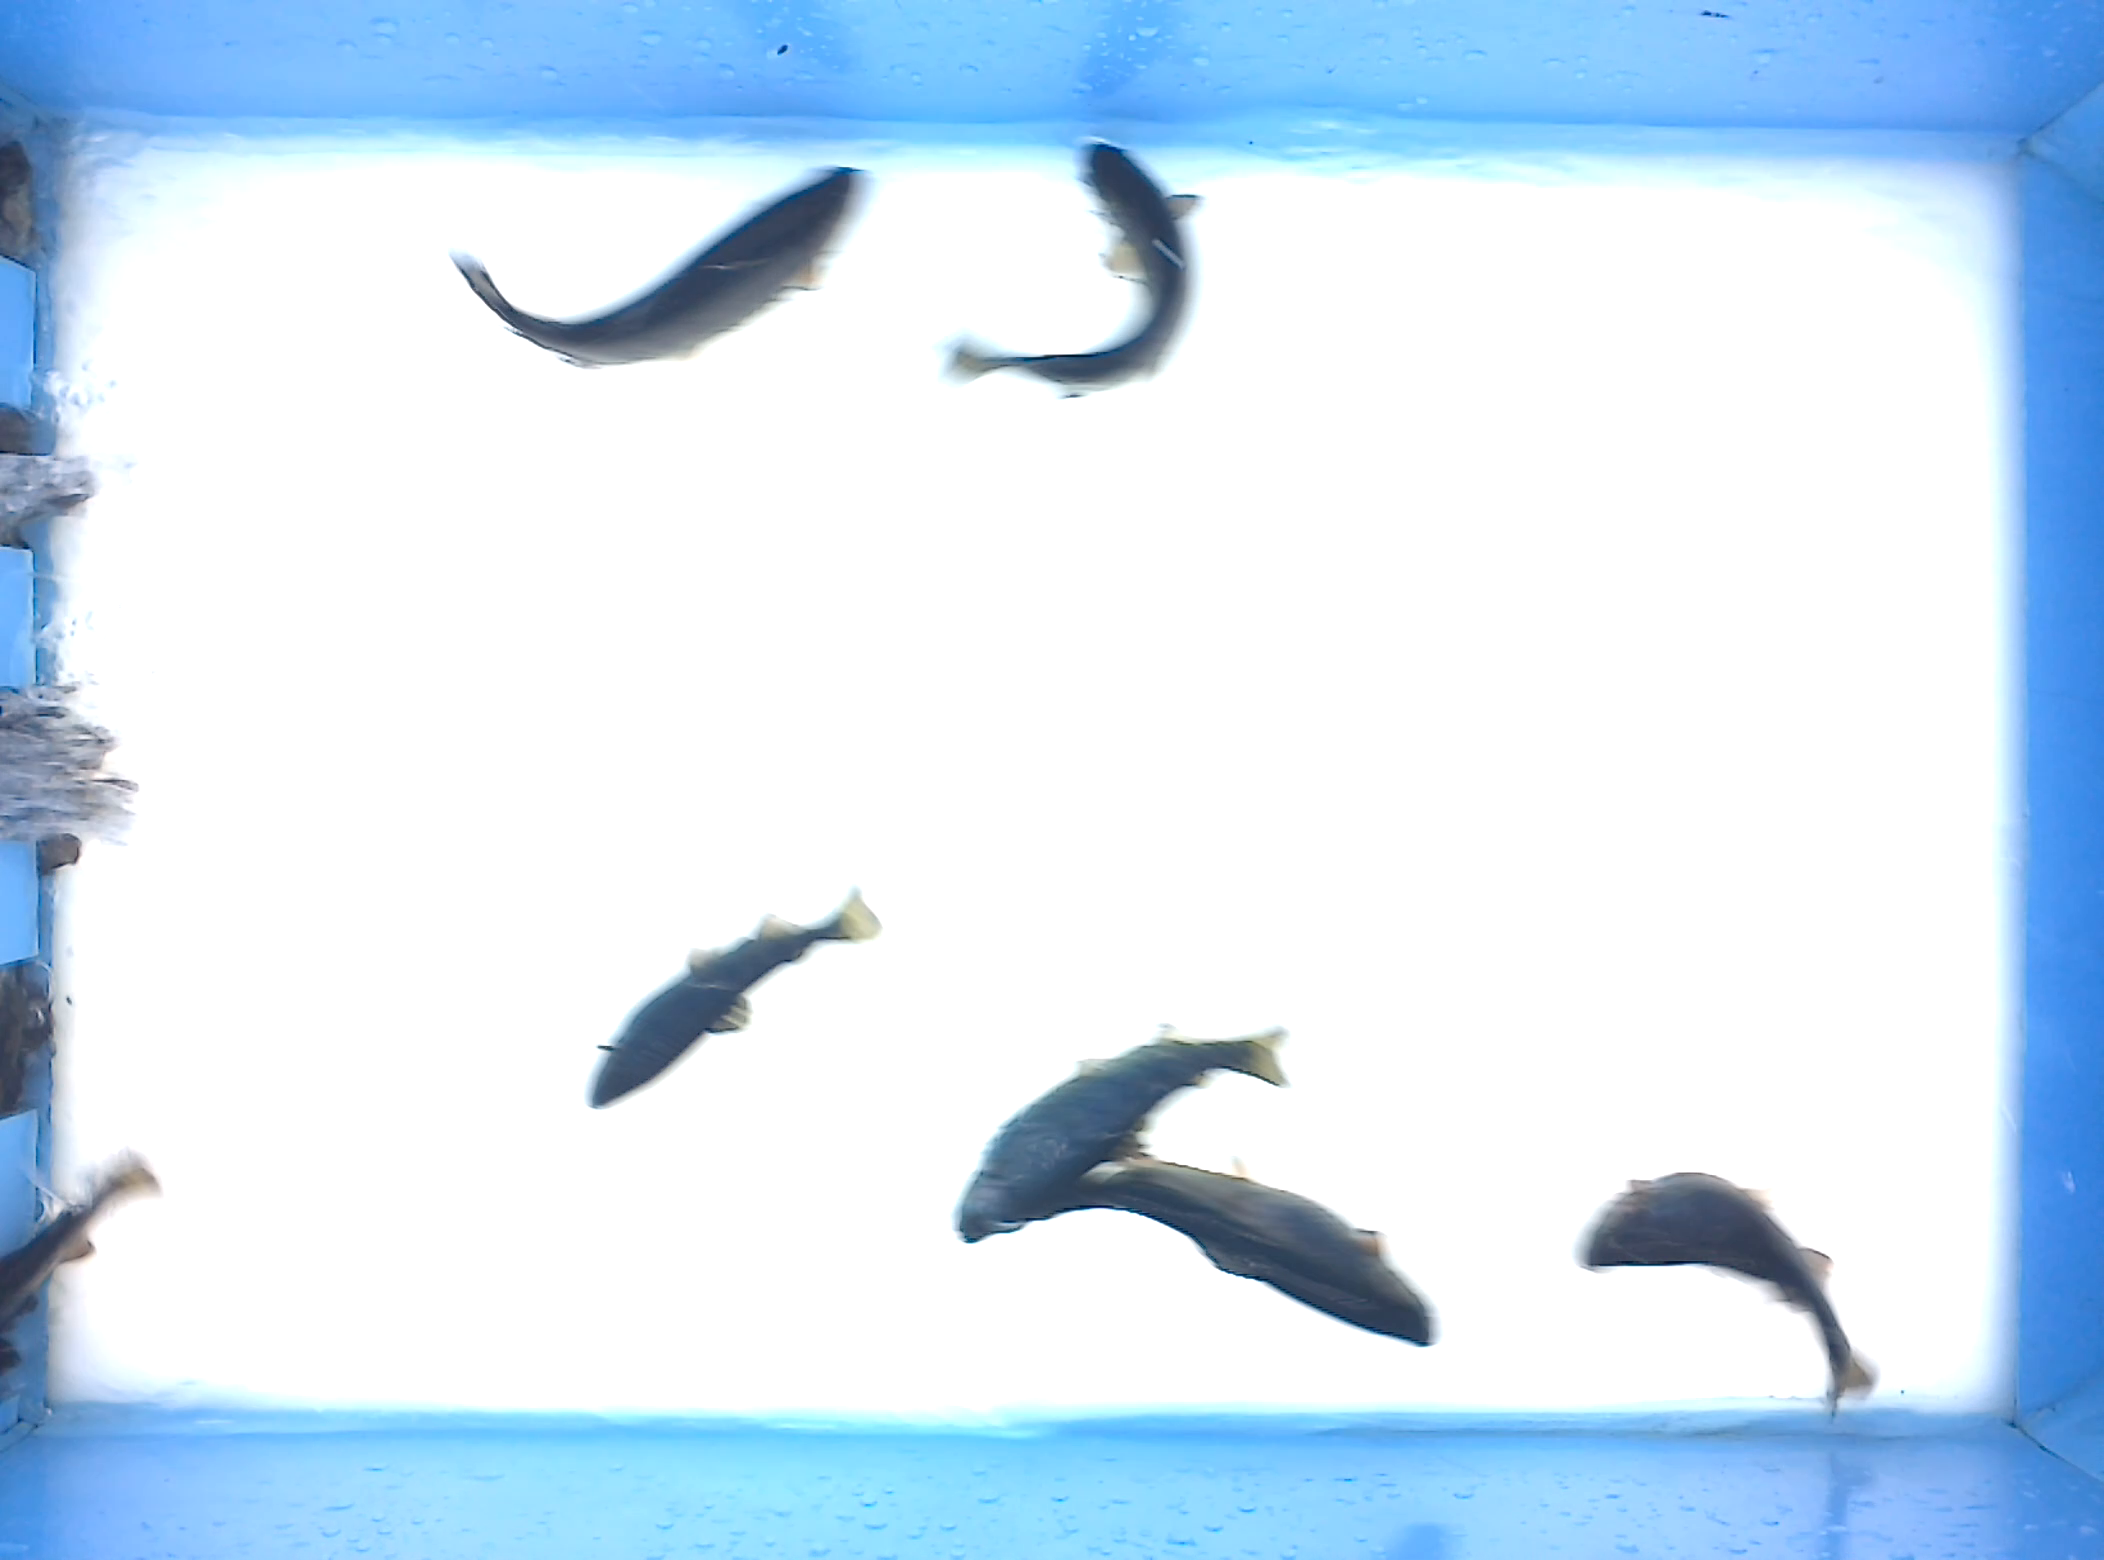fish: (446, 156, 882, 375), (1004, 1145, 1444, 1352), (901, 134, 1208, 403), (949, 1019, 1295, 1247), (1570, 1168, 1880, 1422), (582, 882, 886, 1114)
